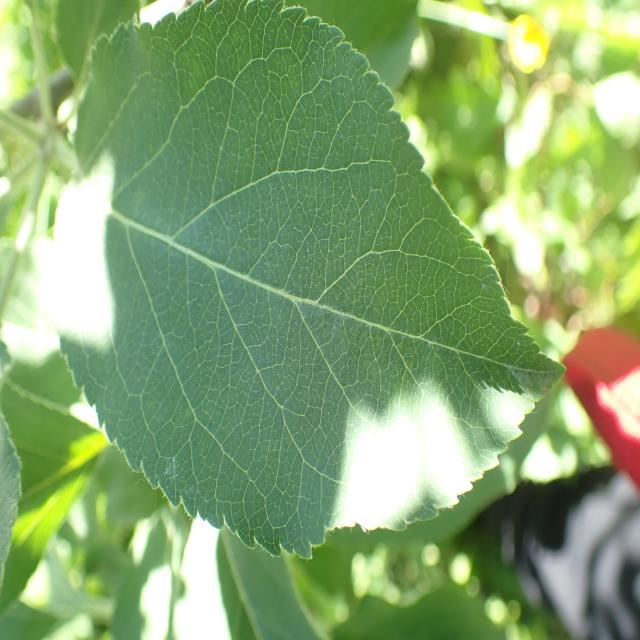healthy: (55, 1, 568, 560)
